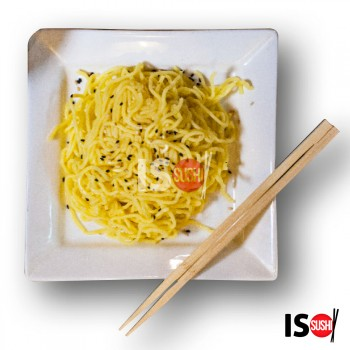plain spaghetti: (58, 65, 242, 236)
